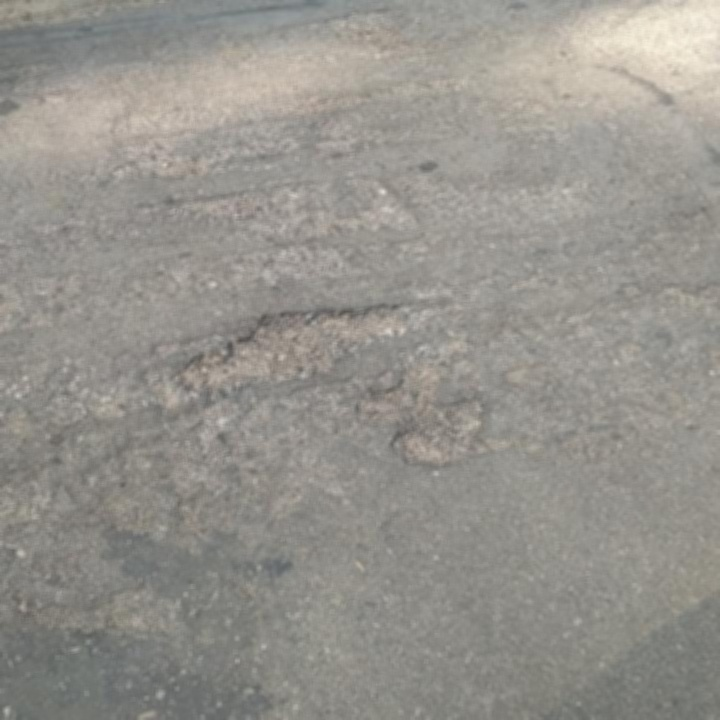pothole: (172, 299, 428, 394), (386, 395, 486, 467)
